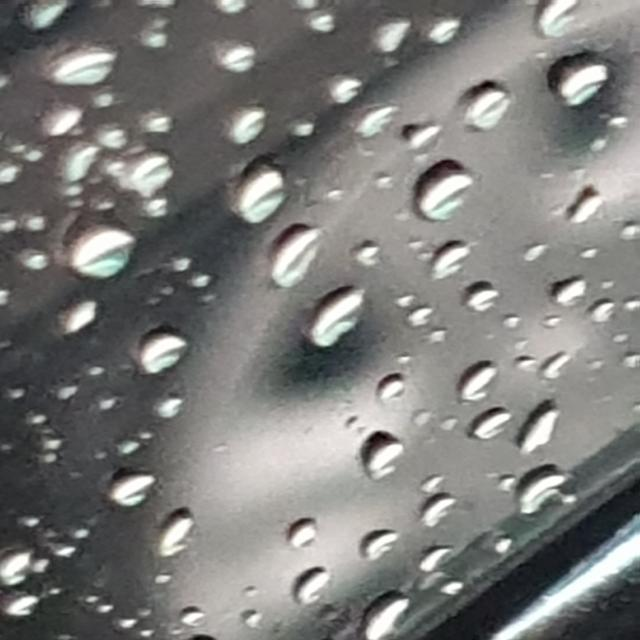raindrop: (258, 218, 341, 296), (542, 48, 640, 109), (309, 278, 383, 356), (507, 398, 591, 463), (56, 222, 140, 286), (406, 160, 488, 222), (48, 35, 128, 97), (331, 585, 418, 640), (134, 507, 204, 572), (349, 426, 420, 490), (436, 363, 507, 425), (404, 241, 478, 299), (238, 156, 294, 230), (216, 88, 280, 152), (124, 328, 200, 380), (88, 470, 166, 518), (121, 146, 201, 192), (500, 472, 575, 520), (276, 562, 334, 624), (526, 0, 597, 50), (265, 507, 329, 560), (444, 270, 502, 324), (458, 72, 507, 132), (144, 380, 220, 418), (361, 94, 415, 147), (454, 400, 511, 450), (409, 495, 472, 540), (544, 188, 608, 230), (60, 290, 114, 339), (46, 140, 108, 182), (392, 296, 462, 333), (20, 106, 91, 142), (20, 0, 91, 35), (528, 347, 589, 387), (346, 227, 400, 271), (418, 7, 470, 52), (368, 15, 418, 60), (91, 115, 148, 154), (0, 544, 48, 590), (358, 526, 413, 566), (365, 369, 417, 410), (168, 264, 228, 296), (210, 40, 270, 72), (409, 538, 462, 572), (396, 120, 446, 156), (150, 242, 200, 278), (130, 190, 197, 216), (138, 104, 196, 134), (0, 577, 48, 613), (95, 436, 154, 464), (132, 17, 174, 56), (0, 256, 57, 284), (515, 241, 567, 270), (436, 574, 482, 606), (86, 378, 124, 416), (486, 523, 527, 558), (326, 77, 365, 111), (585, 295, 617, 336), (170, 602, 212, 633), (554, 277, 592, 310), (233, 602, 277, 629), (68, 356, 110, 384), (26, 207, 59, 241), (575, 234, 609, 264), (85, 188, 124, 210), (58, 376, 86, 406), (613, 216, 640, 246), (36, 434, 65, 456), (0, 162, 24, 188), (25, 149, 49, 173), (0, 212, 18, 237)
